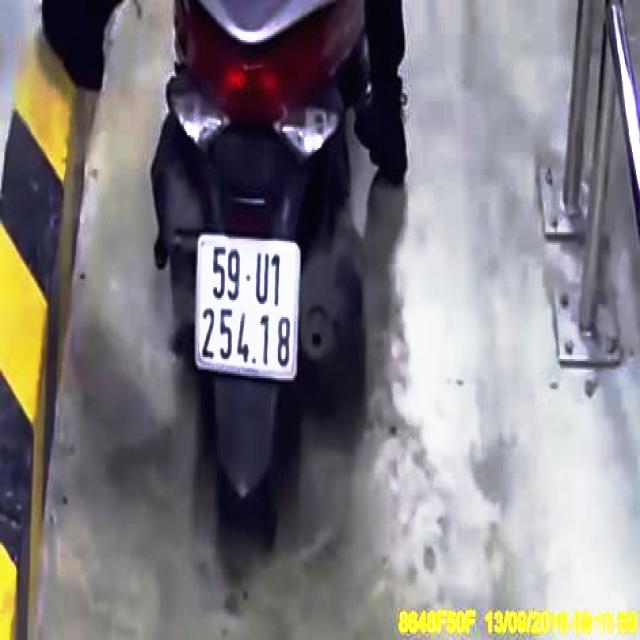license_plate: (198, 234, 300, 378)
